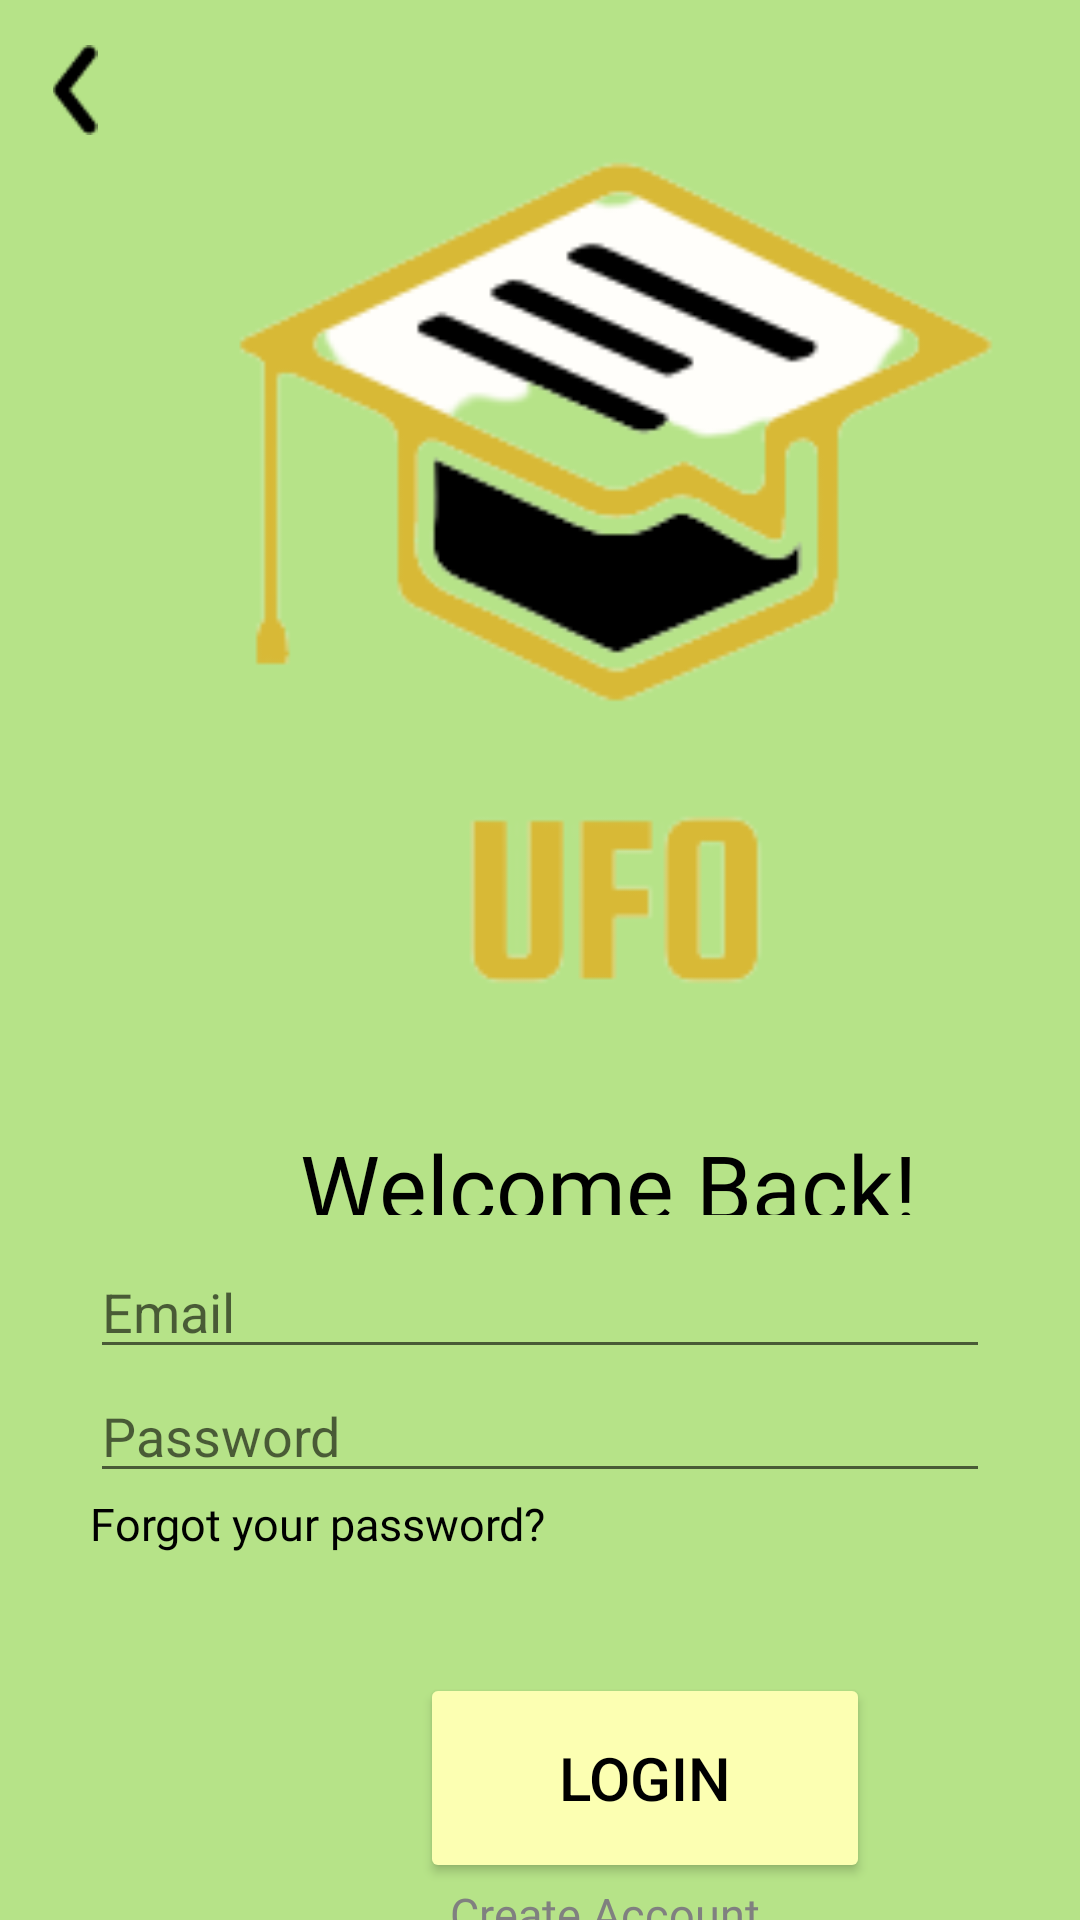

Icon bounding boxes for this 1080px x 1920px phone screenshot, format (x1, y1, x2, y2):
back: (53, 45, 98, 135)
